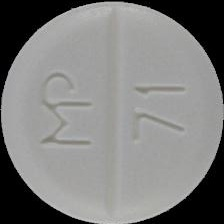53489-156: (0, 0, 224, 224)
